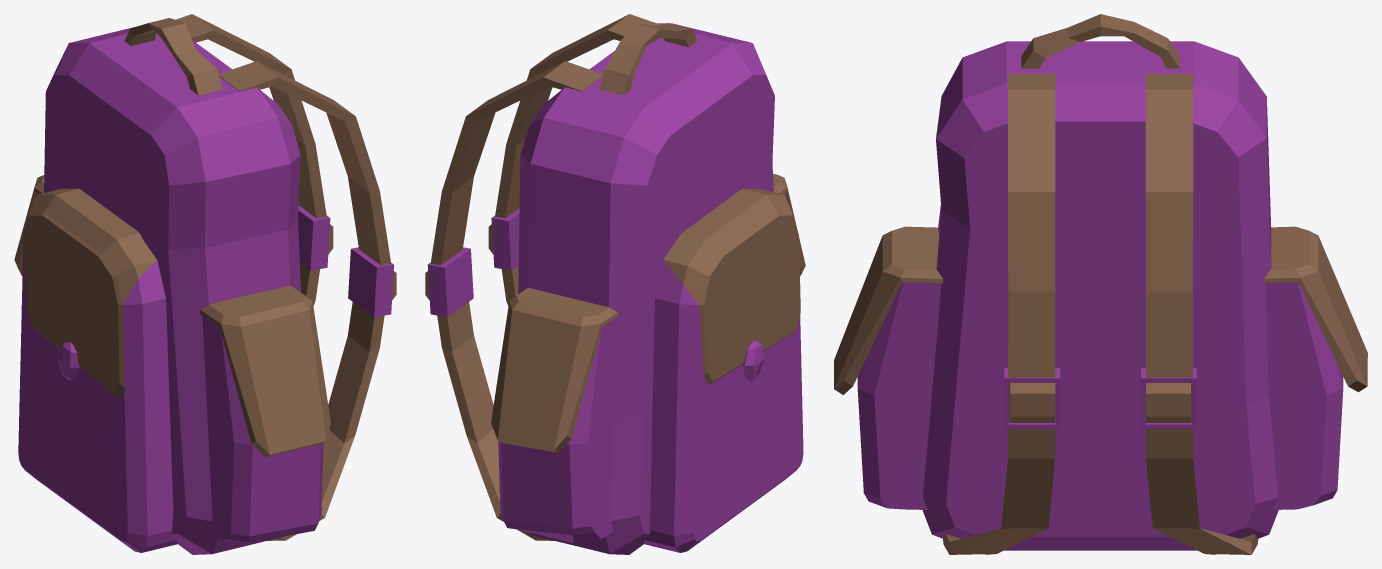
The model's file is backpack_first.fbx.
3 views of the same model, side by side, from view 1: azimuth 30°, elevation 25°; view 2: azimuth 150°, elevation 25°; view 3: azimuth 270°, elevation 25° (orthographic). The views are drawn at different scales.
Parts seen in each view (by area): view 1: Backpack_Cube.006; view 2: Backpack_Cube.006; view 3: Backpack_Cube.006.
Boxes of the visible parts, box(x1,y1,x2,y2) form: Backpack_Cube.006: box(14, 14, 396, 554); Backpack_Cube.006: box(425, 14, 805, 554); Backpack_Cube.006: box(834, 14, 1367, 554).
Bounding box in the file's own units: 92.59 × 146 × 136.
